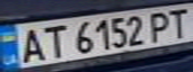1: (90, 16, 112, 51)
2: (124, 12, 151, 46)
5: (109, 15, 130, 48)
6: (69, 18, 97, 54)
A: (15, 25, 48, 63)
P: (145, 9, 175, 42)
T: (36, 22, 69, 60), (163, 4, 193, 38)
